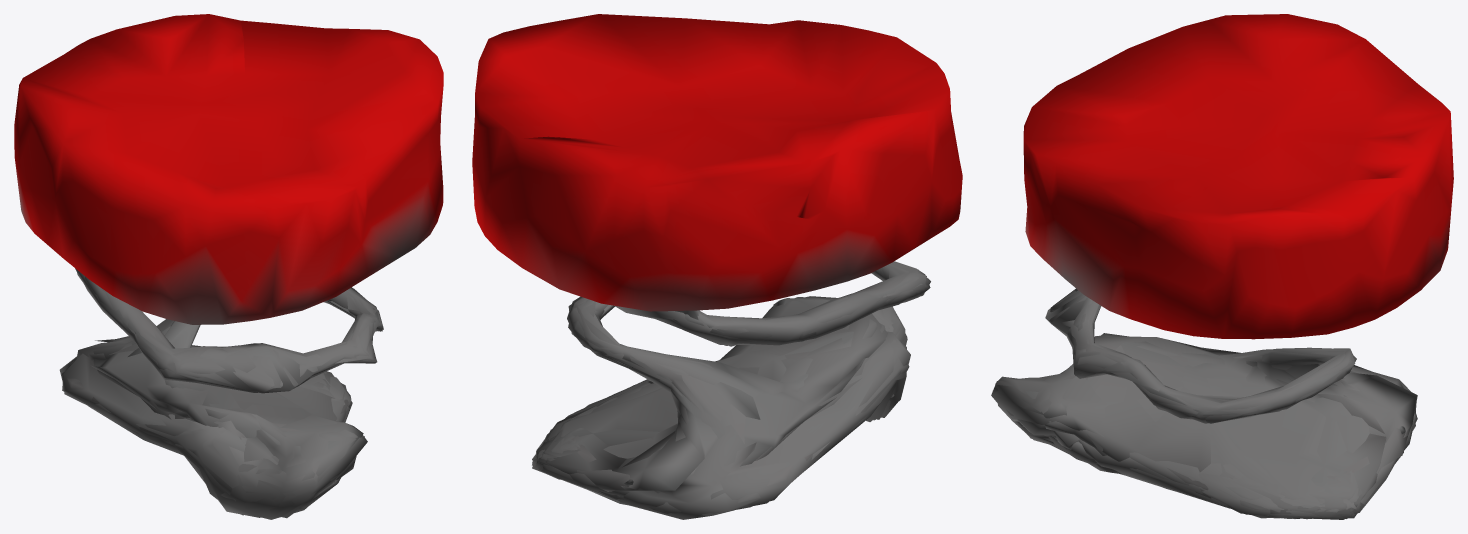
File: Spring.fbx
The picture shows the model from 3 angles, left to right: view 1: azimuth 30°, elevation 25°; view 2: azimuth 150°, elevation 25°; view 3: azimuth 270°, elevation 25°; orthographic projection. The views are drawn at different scales.
Visible parts, largest first — view 1: SpringLow; view 2: SpringLow; view 3: SpringLow.
Part boxes in pixels (bbox=[...]): SpringLow: bbox=[14, 14, 443, 519]; SpringLow: bbox=[472, 14, 962, 519]; SpringLow: bbox=[991, 14, 1453, 519].
Bounding box in the file's own units: 29.93 × 26.98 × 30.61.
